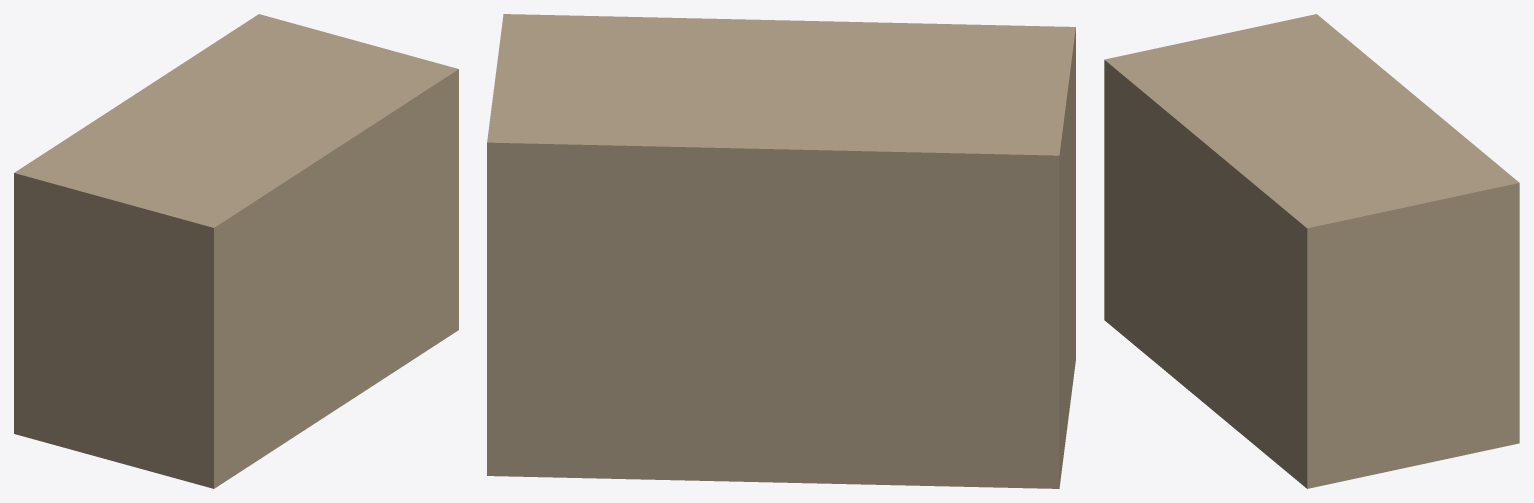
Rendered from bld_101805805.dae.
3 views of the same model, side by side, from view 1: azimuth 30°, elevation 25°; view 2: azimuth 150°, elevation 25°; view 3: azimuth 270°, elevation 25° (orthographic). The views are drawn at different scales.
Visible parts, largest first — view 1: bld_101805805; view 2: bld_101805805; view 3: bld_101805805.
Part boxes in pixels (x1,y1,x2,y2): bld_101805805: (14, 14, 458, 488); bld_101805805: (487, 14, 1075, 488); bld_101805805: (1104, 14, 1519, 488).
Size of the model in its own units: 14.12 by 11.56 by 8.
